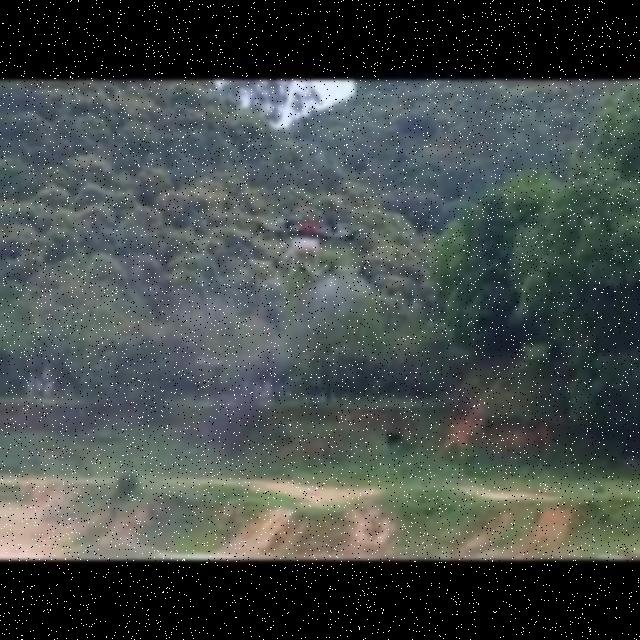UAV: (246, 215, 366, 283)
